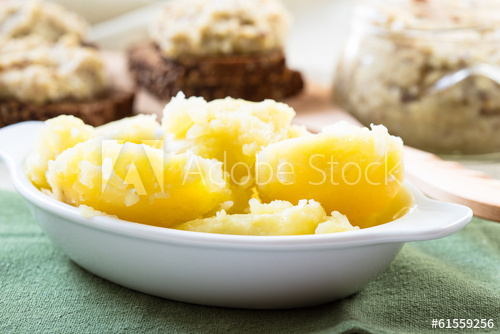boiled potatoes: (37, 96, 414, 237)
